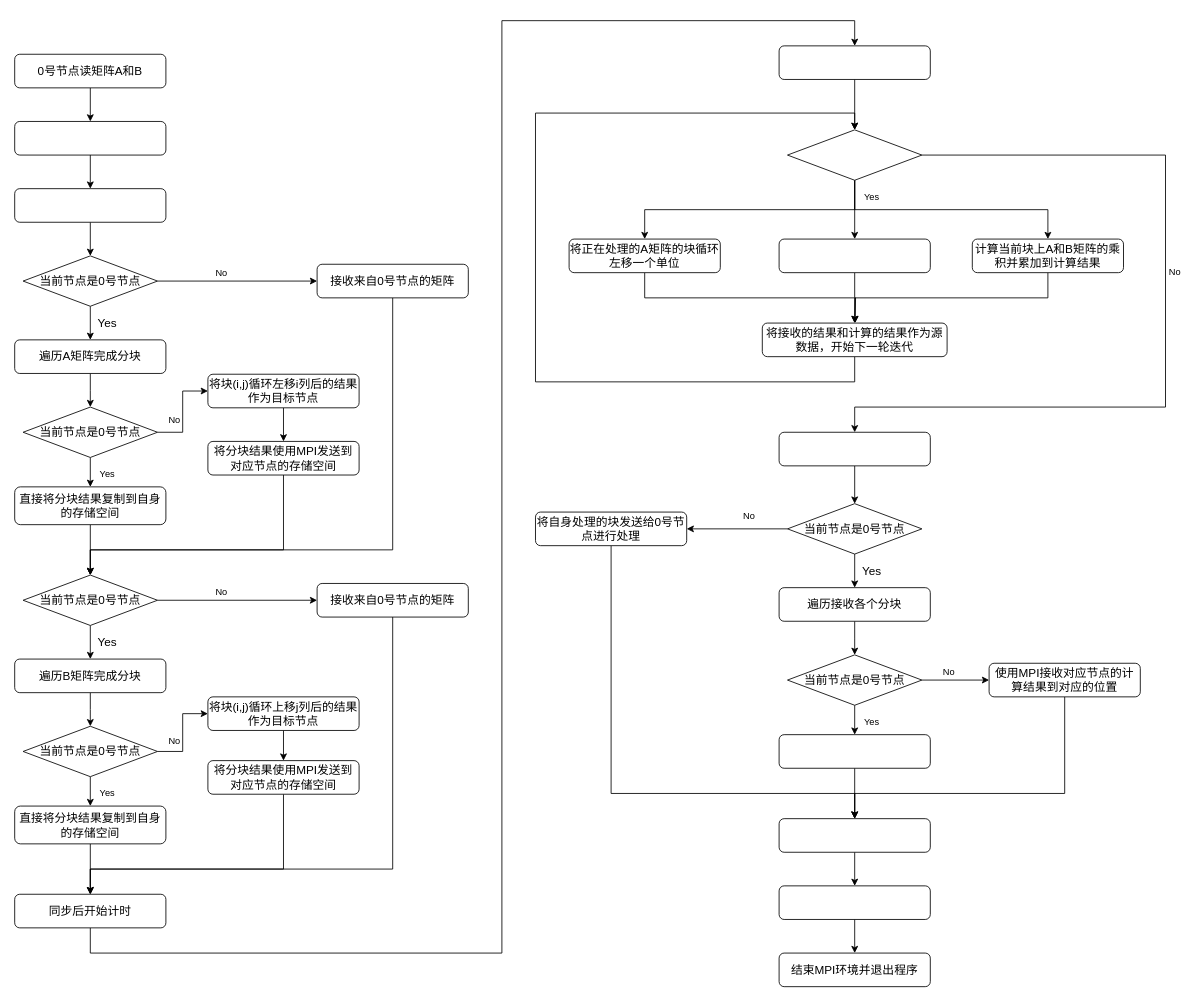
Image size: 1194x1001. Some labels were removed from this diagram. The box of each missing label's shape, as (x1, y1, x2, y2) in pixels:
0号节点将矩阵A和B的尺寸广播给其它节点: (14, 121, 166, 155)
初始化计算结果为0: (778, 45, 930, 79)
各个节点为其处理的矩阵块申请存储空间: (14, 188, 166, 222)
同步后合并计算结果: (778, 431, 930, 466)
同步后结束计时: (778, 818, 930, 852)
将正在处理的B矩阵的块循环上移一个单位: (778, 238, 930, 273)
当前迭代次数 小于节点数开方: (787, 129, 922, 180)
直接将分块结果复制到自身的 对应位置: (778, 734, 930, 768)
输出运行时间及计算结果: (778, 885, 930, 919)
